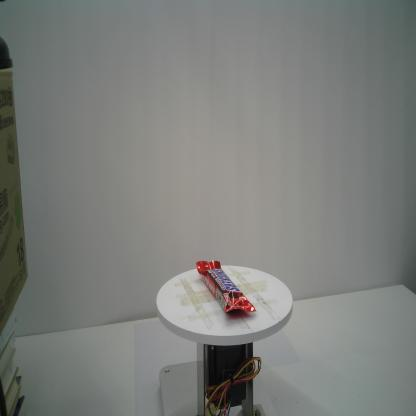Chocolate: (196, 259, 257, 314)
